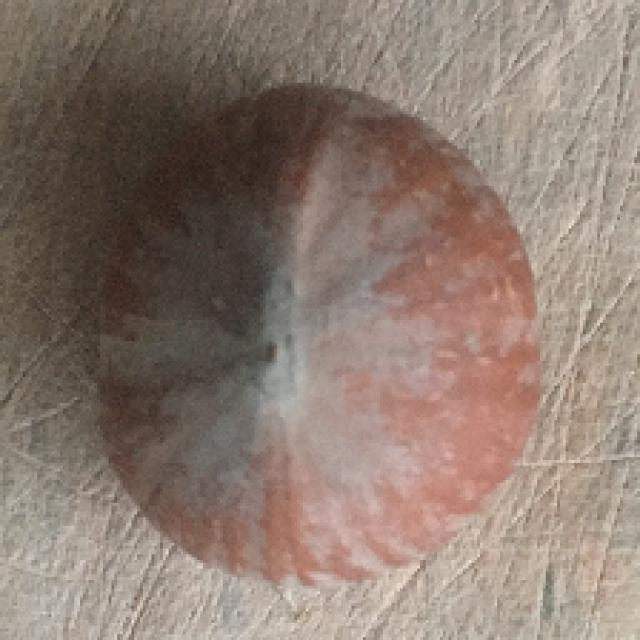qualityHazelnut: (75, 71, 551, 592)
